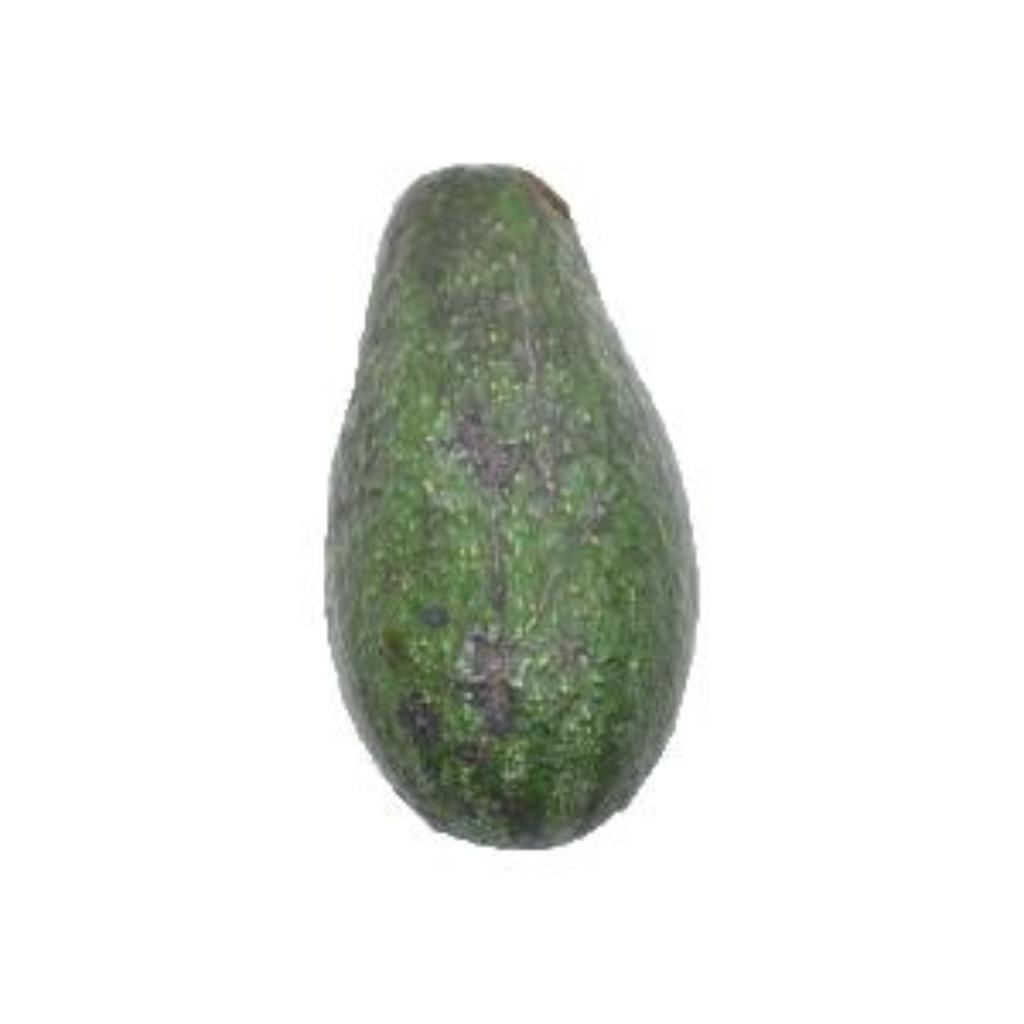cercospora: (239, 123, 803, 884)
